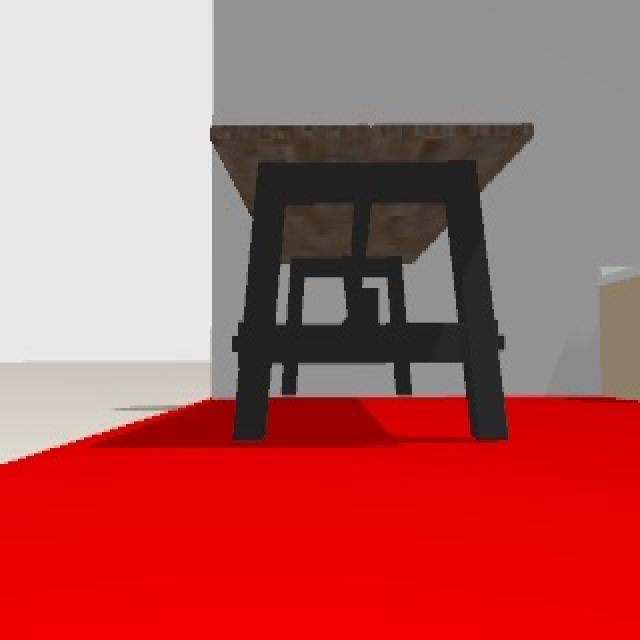dining: (211, 122, 535, 443)
